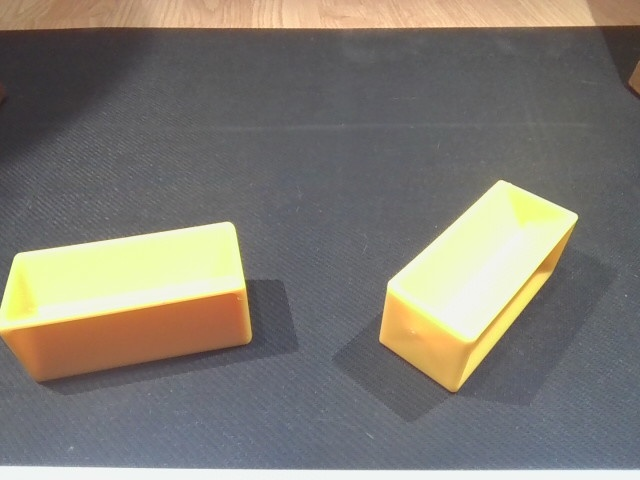YellowSample: (375, 176, 584, 395), (1, 216, 261, 385)
